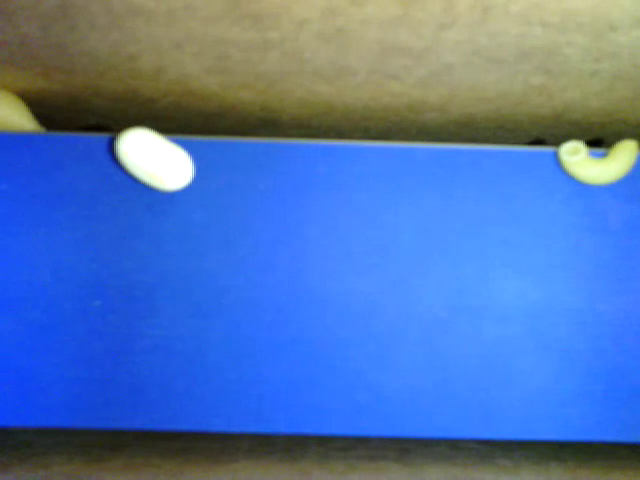elbow: (559, 137, 638, 185)
shell: (1, 89, 47, 136)
